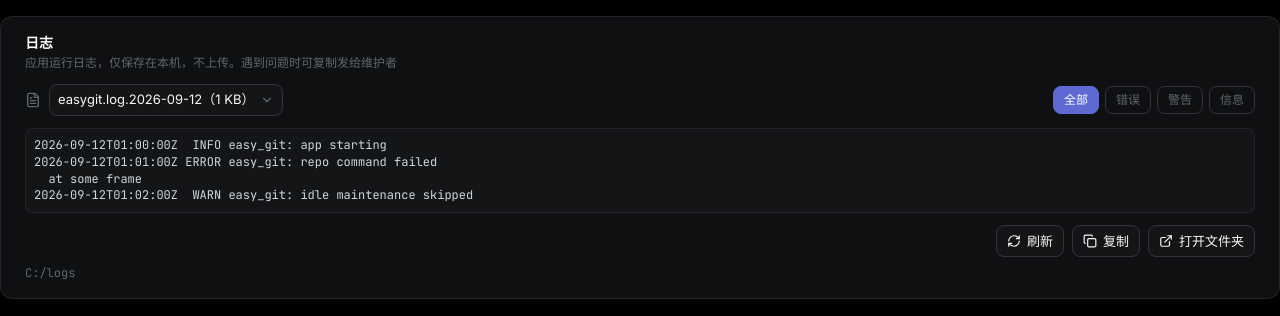
Test case: LogsPanel › hides other levels after picking the error filter
Check: the text with test id "logs-content" is shown, box [25,128,1255,213]
Step 1. Click the button with test id "logs-level-error" → (1128, 100), box [1105,86,1151,114]
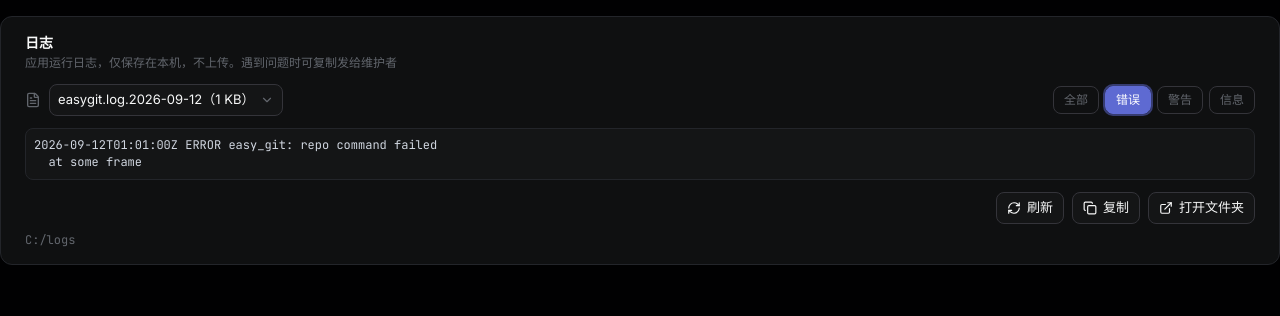
Check: the text with test id "logs-content" shows "repo command failed", box [34,137,437,170]
Check: the text with test id "logs-content" no longer shows "app starting", box [25,128,1255,180]
